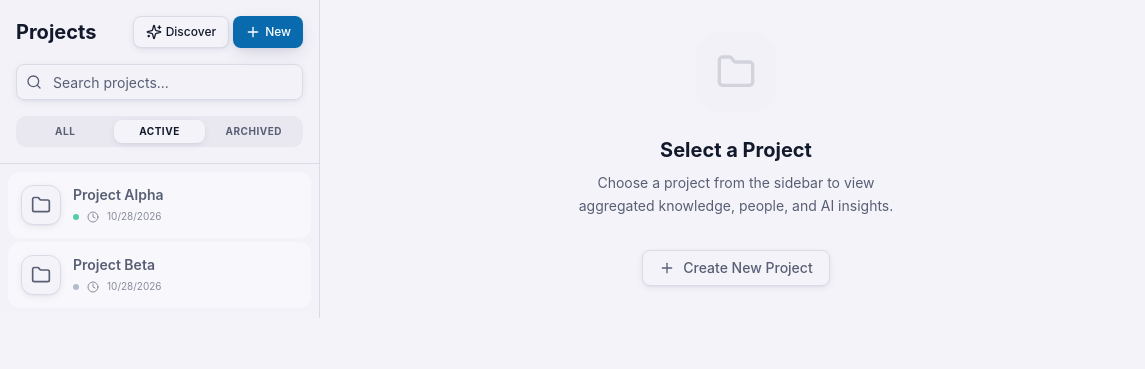
Test: Projects Page › should show loading state when selecting a project
The width and height of the screenshot is (1145, 369).
Note: Click on the project to select it
Click the text "Project Alpha" at [118, 194], box [73,186,164,203]
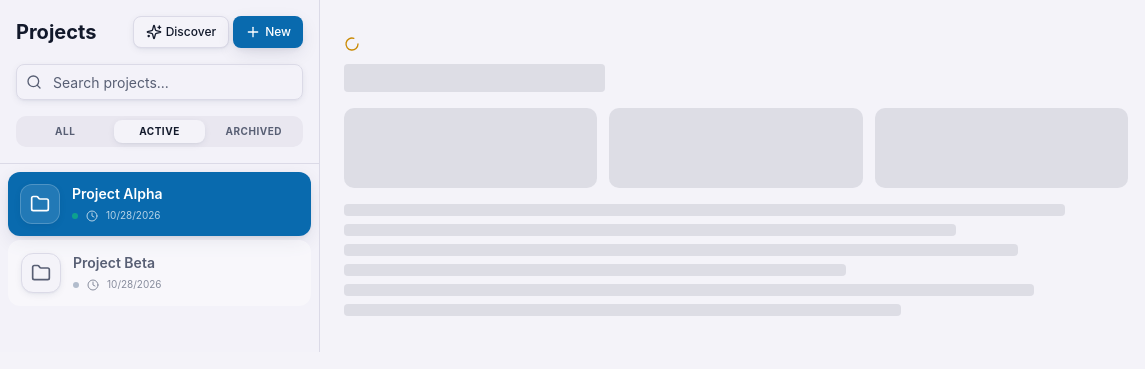
Expected: the message named "Loading project details" is shown, [344,24,1128,328]
